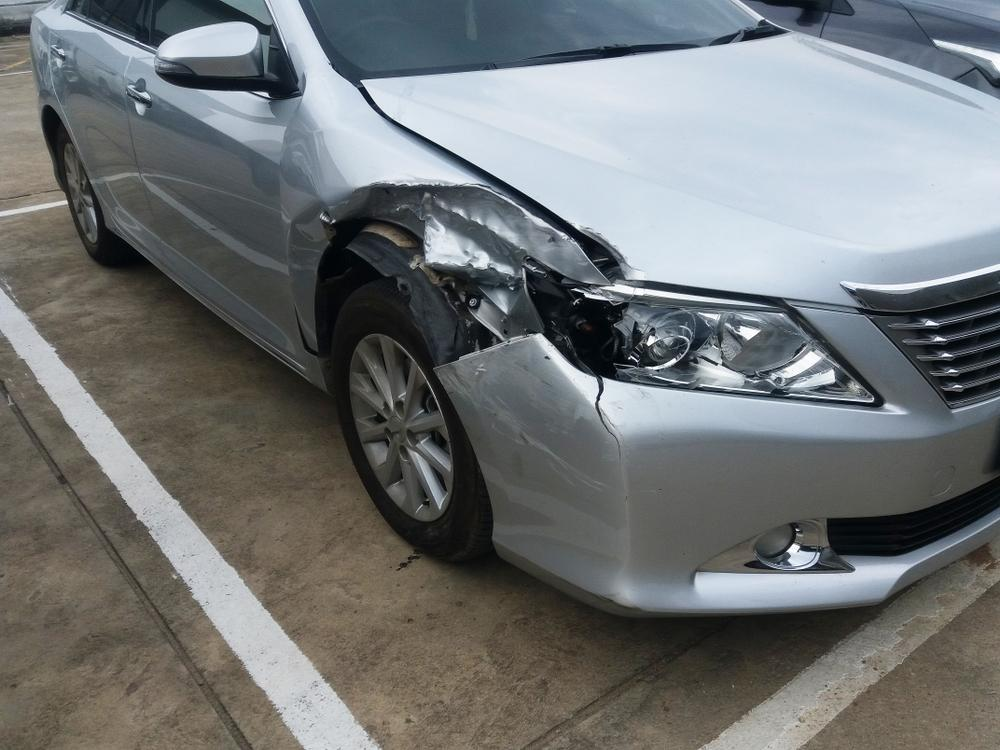crack: (595, 377, 622, 467)
dent: (326, 184, 598, 327)
lamp broken: (529, 268, 883, 406)
scratch: (434, 333, 606, 492)
